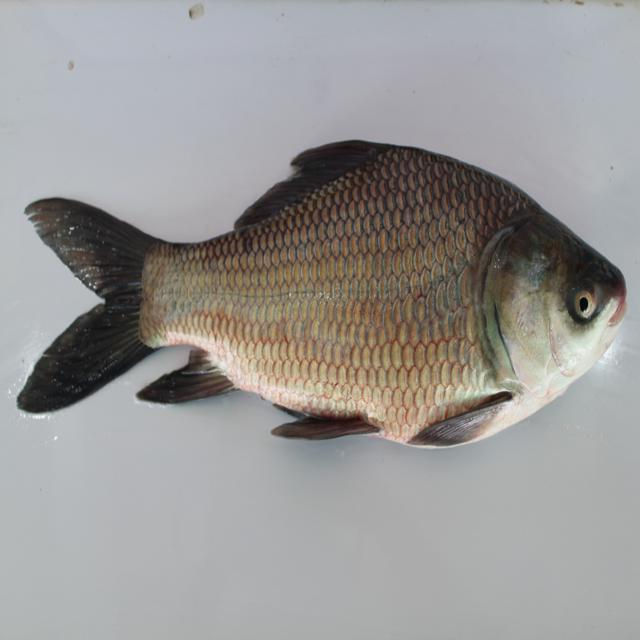Catla: (19, 129, 632, 459)
